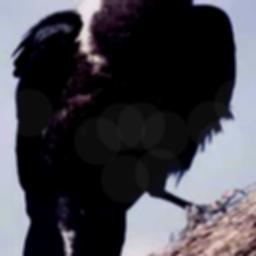Crow: (7, 0, 241, 256)
